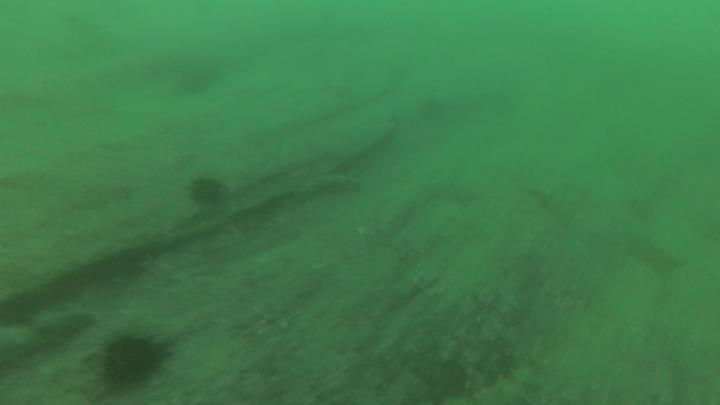echinus: (105, 340, 157, 381), (190, 179, 220, 204)
